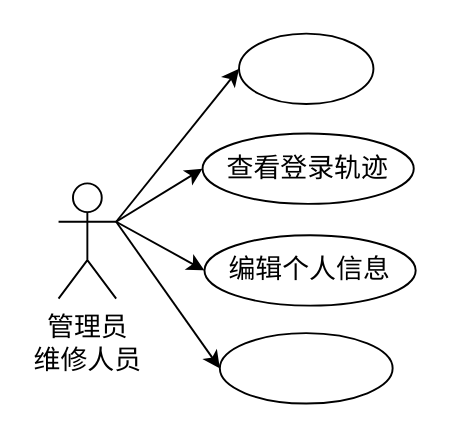
The diagram is 449 pixels wide and 438 high, and some of its shapes have lost their labels. Each missing label, with the centre of its shape:
"登录" belongs at point (305, 68).
"退出登录" belongs at point (305, 367).
